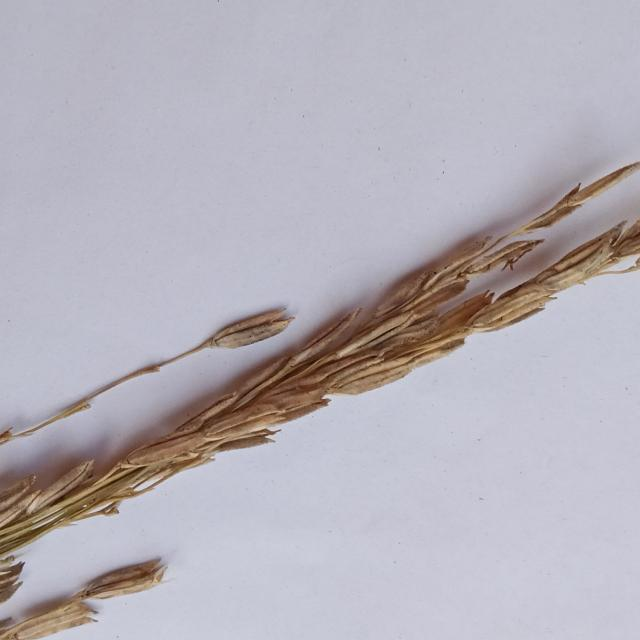Neck_Blast: (0, 160, 640, 610)
